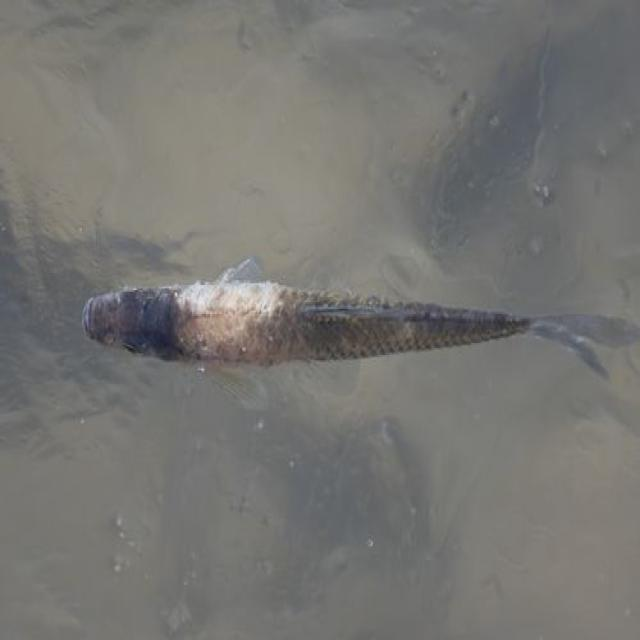Cakil Baligi: (78, 245, 637, 393)
